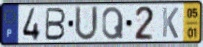2: (135, 5, 156, 41)
4: (22, 7, 42, 43)
B: (44, 7, 68, 42)
K: (161, 6, 180, 40)
Q: (101, 6, 126, 42)
U: (73, 5, 100, 43)
